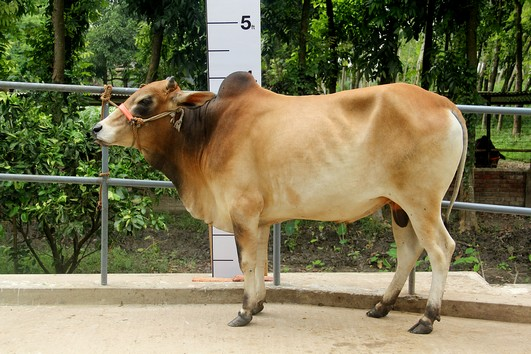cow: (89, 68, 473, 341)
